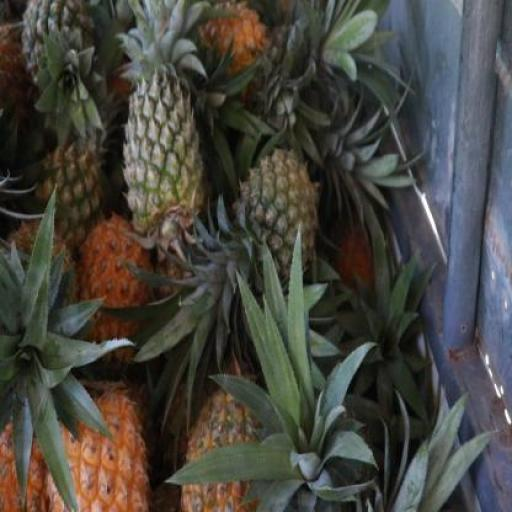Pineapple - v8 v1: (44, 380, 147, 511), (76, 220, 150, 368)
